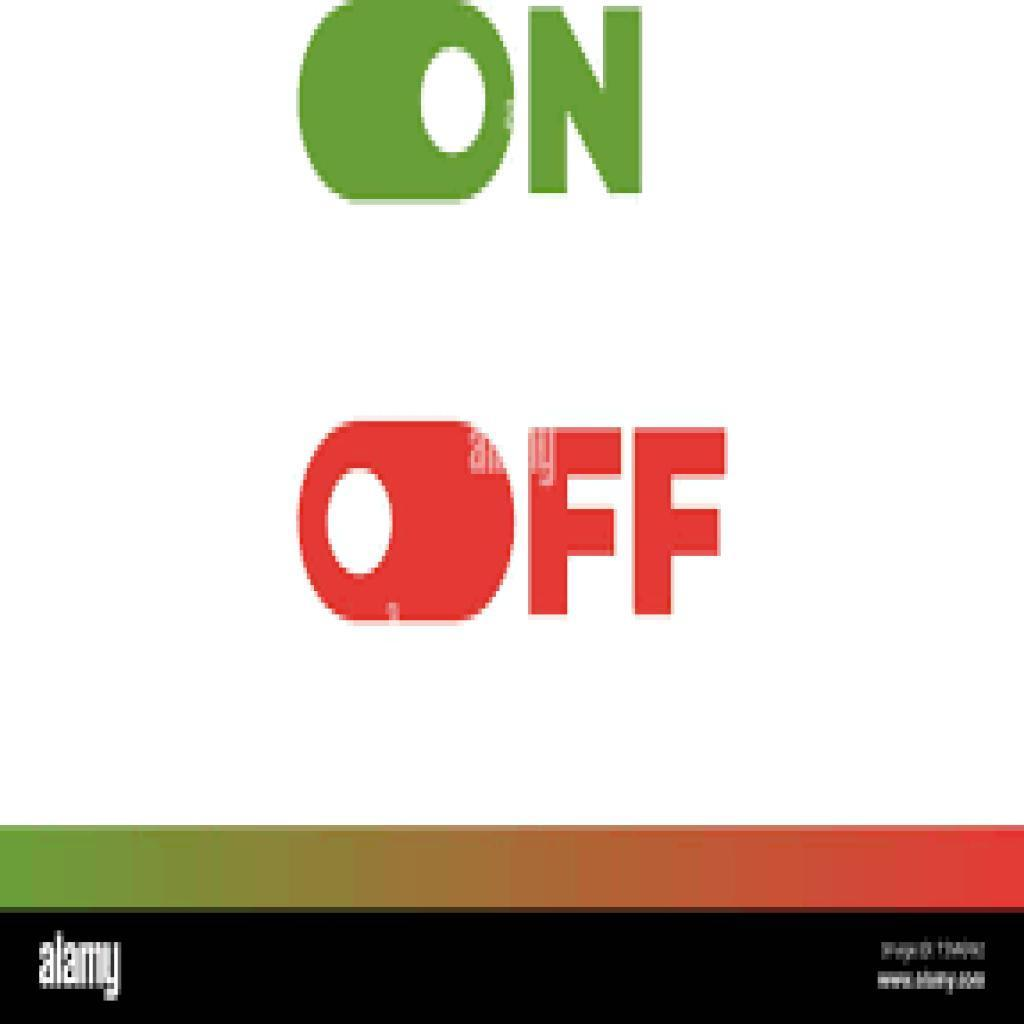switch: (291, 1, 520, 210), (298, 422, 517, 624)
